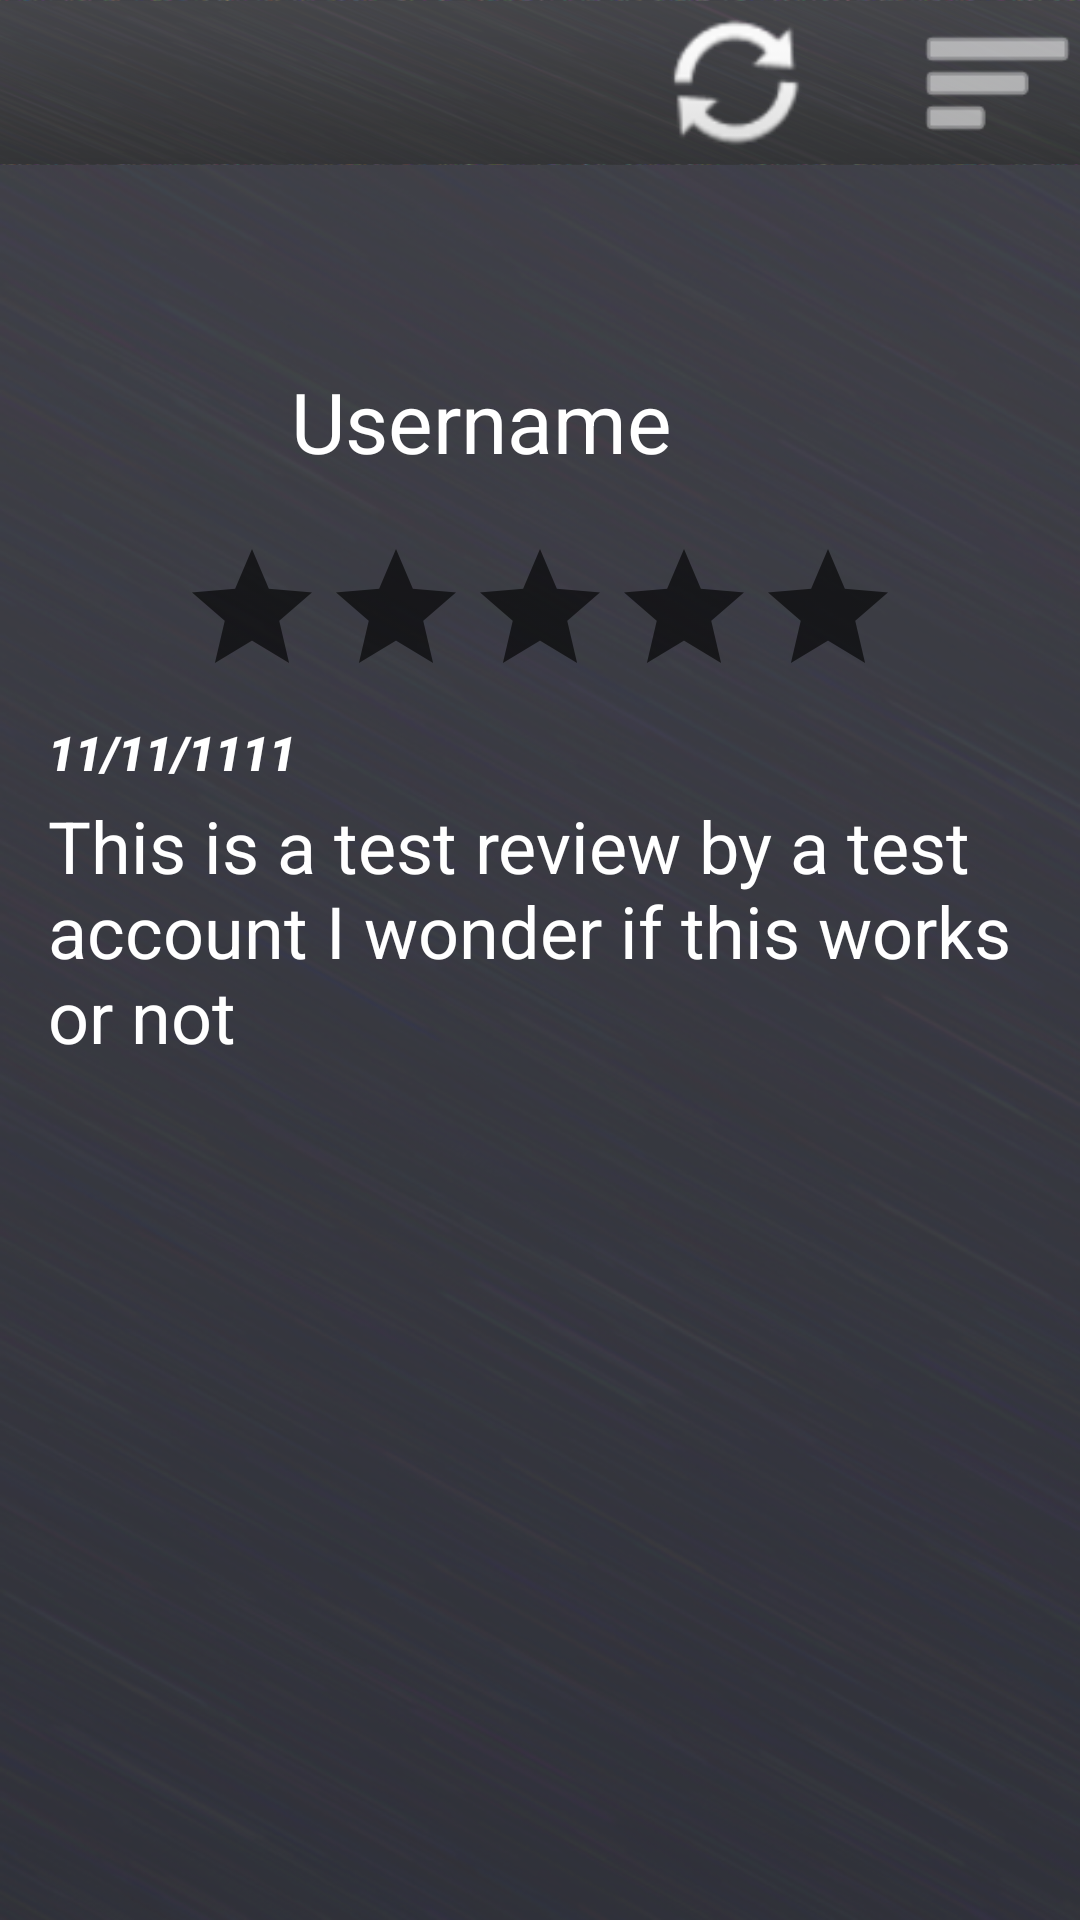

Named icons in this screenshot (1080w x 1920h) and their bounding boxes, (x1, y1, x2, y2):
popup sync: (658, 0, 799, 143)
sort by size: (926, 0, 1074, 129)
